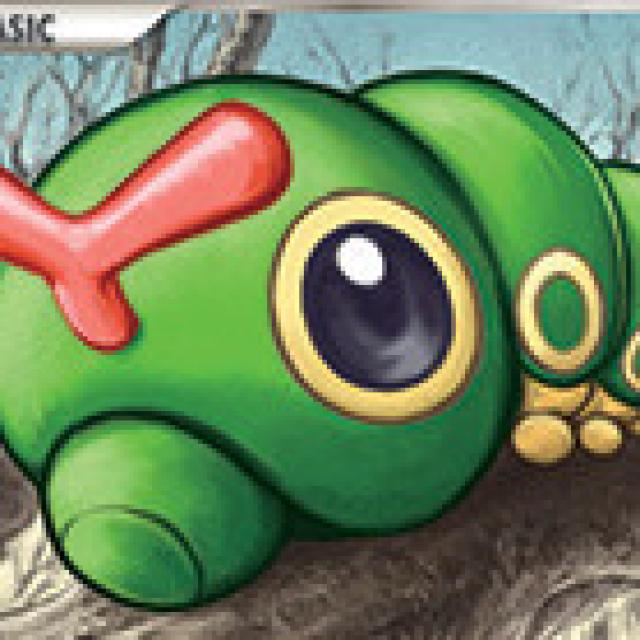Caterpie: (0, 76, 640, 592)
